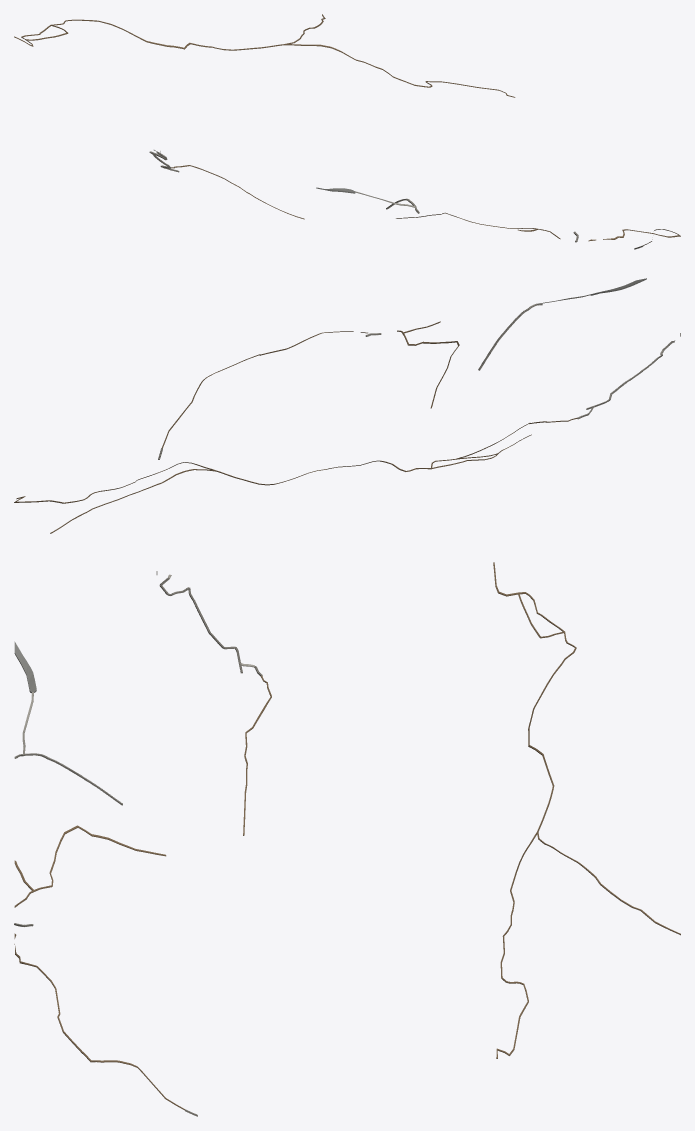
The picture shows the model from 3 angles, top to bottom: view 1: azimuth 30°, elevation 25°; view 2: azimuth 150°, elevation 25°; view 3: azimuth 270°, elevation 25°; orthographic projection. The views are drawn at different scales.
Size of the model in its own units: 587 by 267 by 584.
